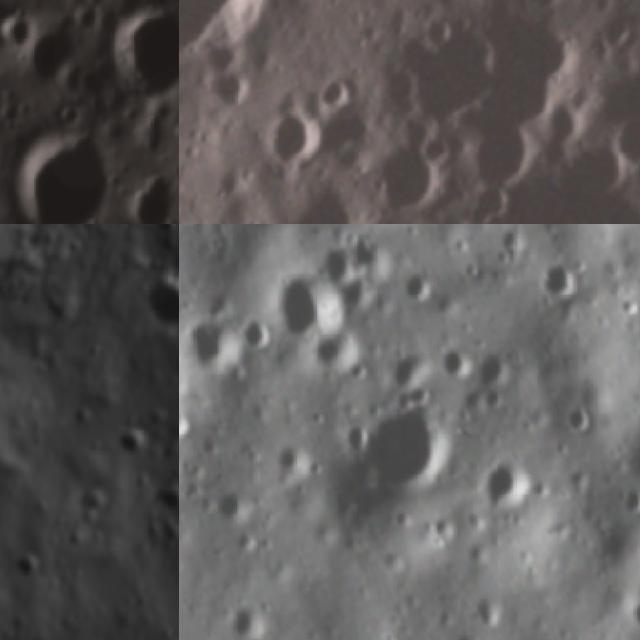crater: (366, 122, 640, 224), (438, 94, 553, 210), (347, 122, 463, 224), (235, 84, 341, 195), (179, 0, 311, 89), (2, 136, 114, 224), (101, 3, 179, 111), (361, 403, 446, 492), (267, 164, 386, 224), (591, 92, 640, 199), (303, 61, 371, 129), (276, 274, 344, 340), (18, 24, 80, 96), (197, 60, 260, 130), (179, 314, 239, 380), (134, 262, 179, 341), (480, 453, 538, 511), (123, 169, 179, 224), (208, 486, 255, 537), (475, 343, 520, 394), (536, 258, 588, 300), (391, 347, 432, 398), (347, 228, 398, 268), (302, 244, 353, 284), (270, 434, 314, 480), (513, 0, 584, 28), (398, 265, 442, 310), (70, 482, 110, 530), (219, 602, 268, 640), (0, 7, 38, 55), (431, 341, 472, 385), (110, 418, 152, 460), (1, 548, 44, 587), (561, 393, 597, 436), (474, 590, 511, 628), (78, 338, 108, 369), (140, 131, 171, 160), (152, 485, 179, 516), (618, 482, 640, 514), (626, 587, 640, 633), (179, 406, 193, 440), (155, 224, 179, 239)
